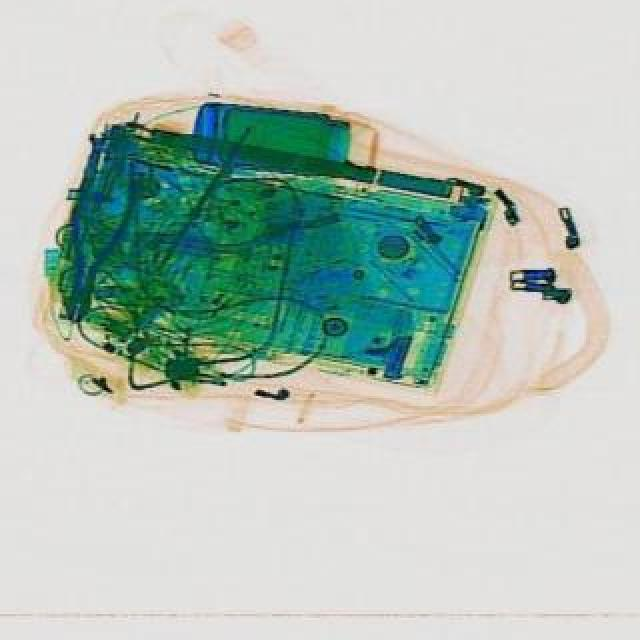scissors: (72, 134, 104, 200)
wrench: (46, 154, 142, 330)
